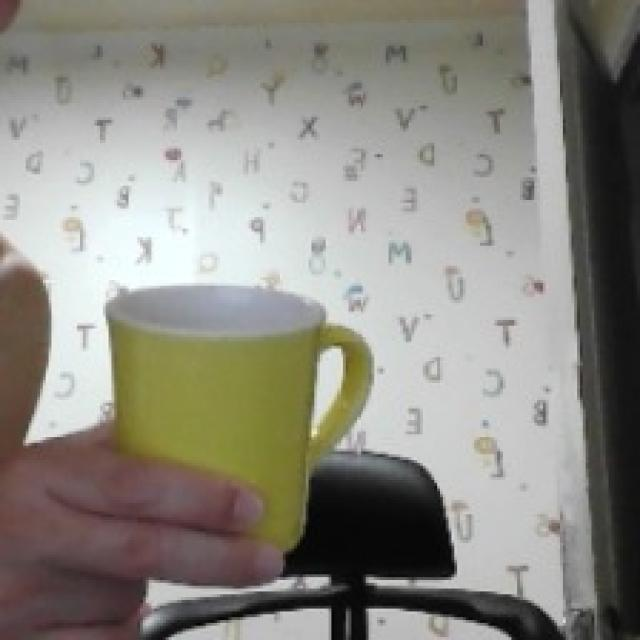cup: (109, 286, 371, 549)
